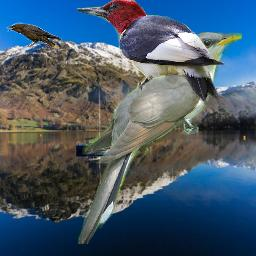Crow: (6, 22, 63, 49)
Cuckoo: (78, 32, 242, 244)
Woodpecker: (77, 0, 224, 105)
